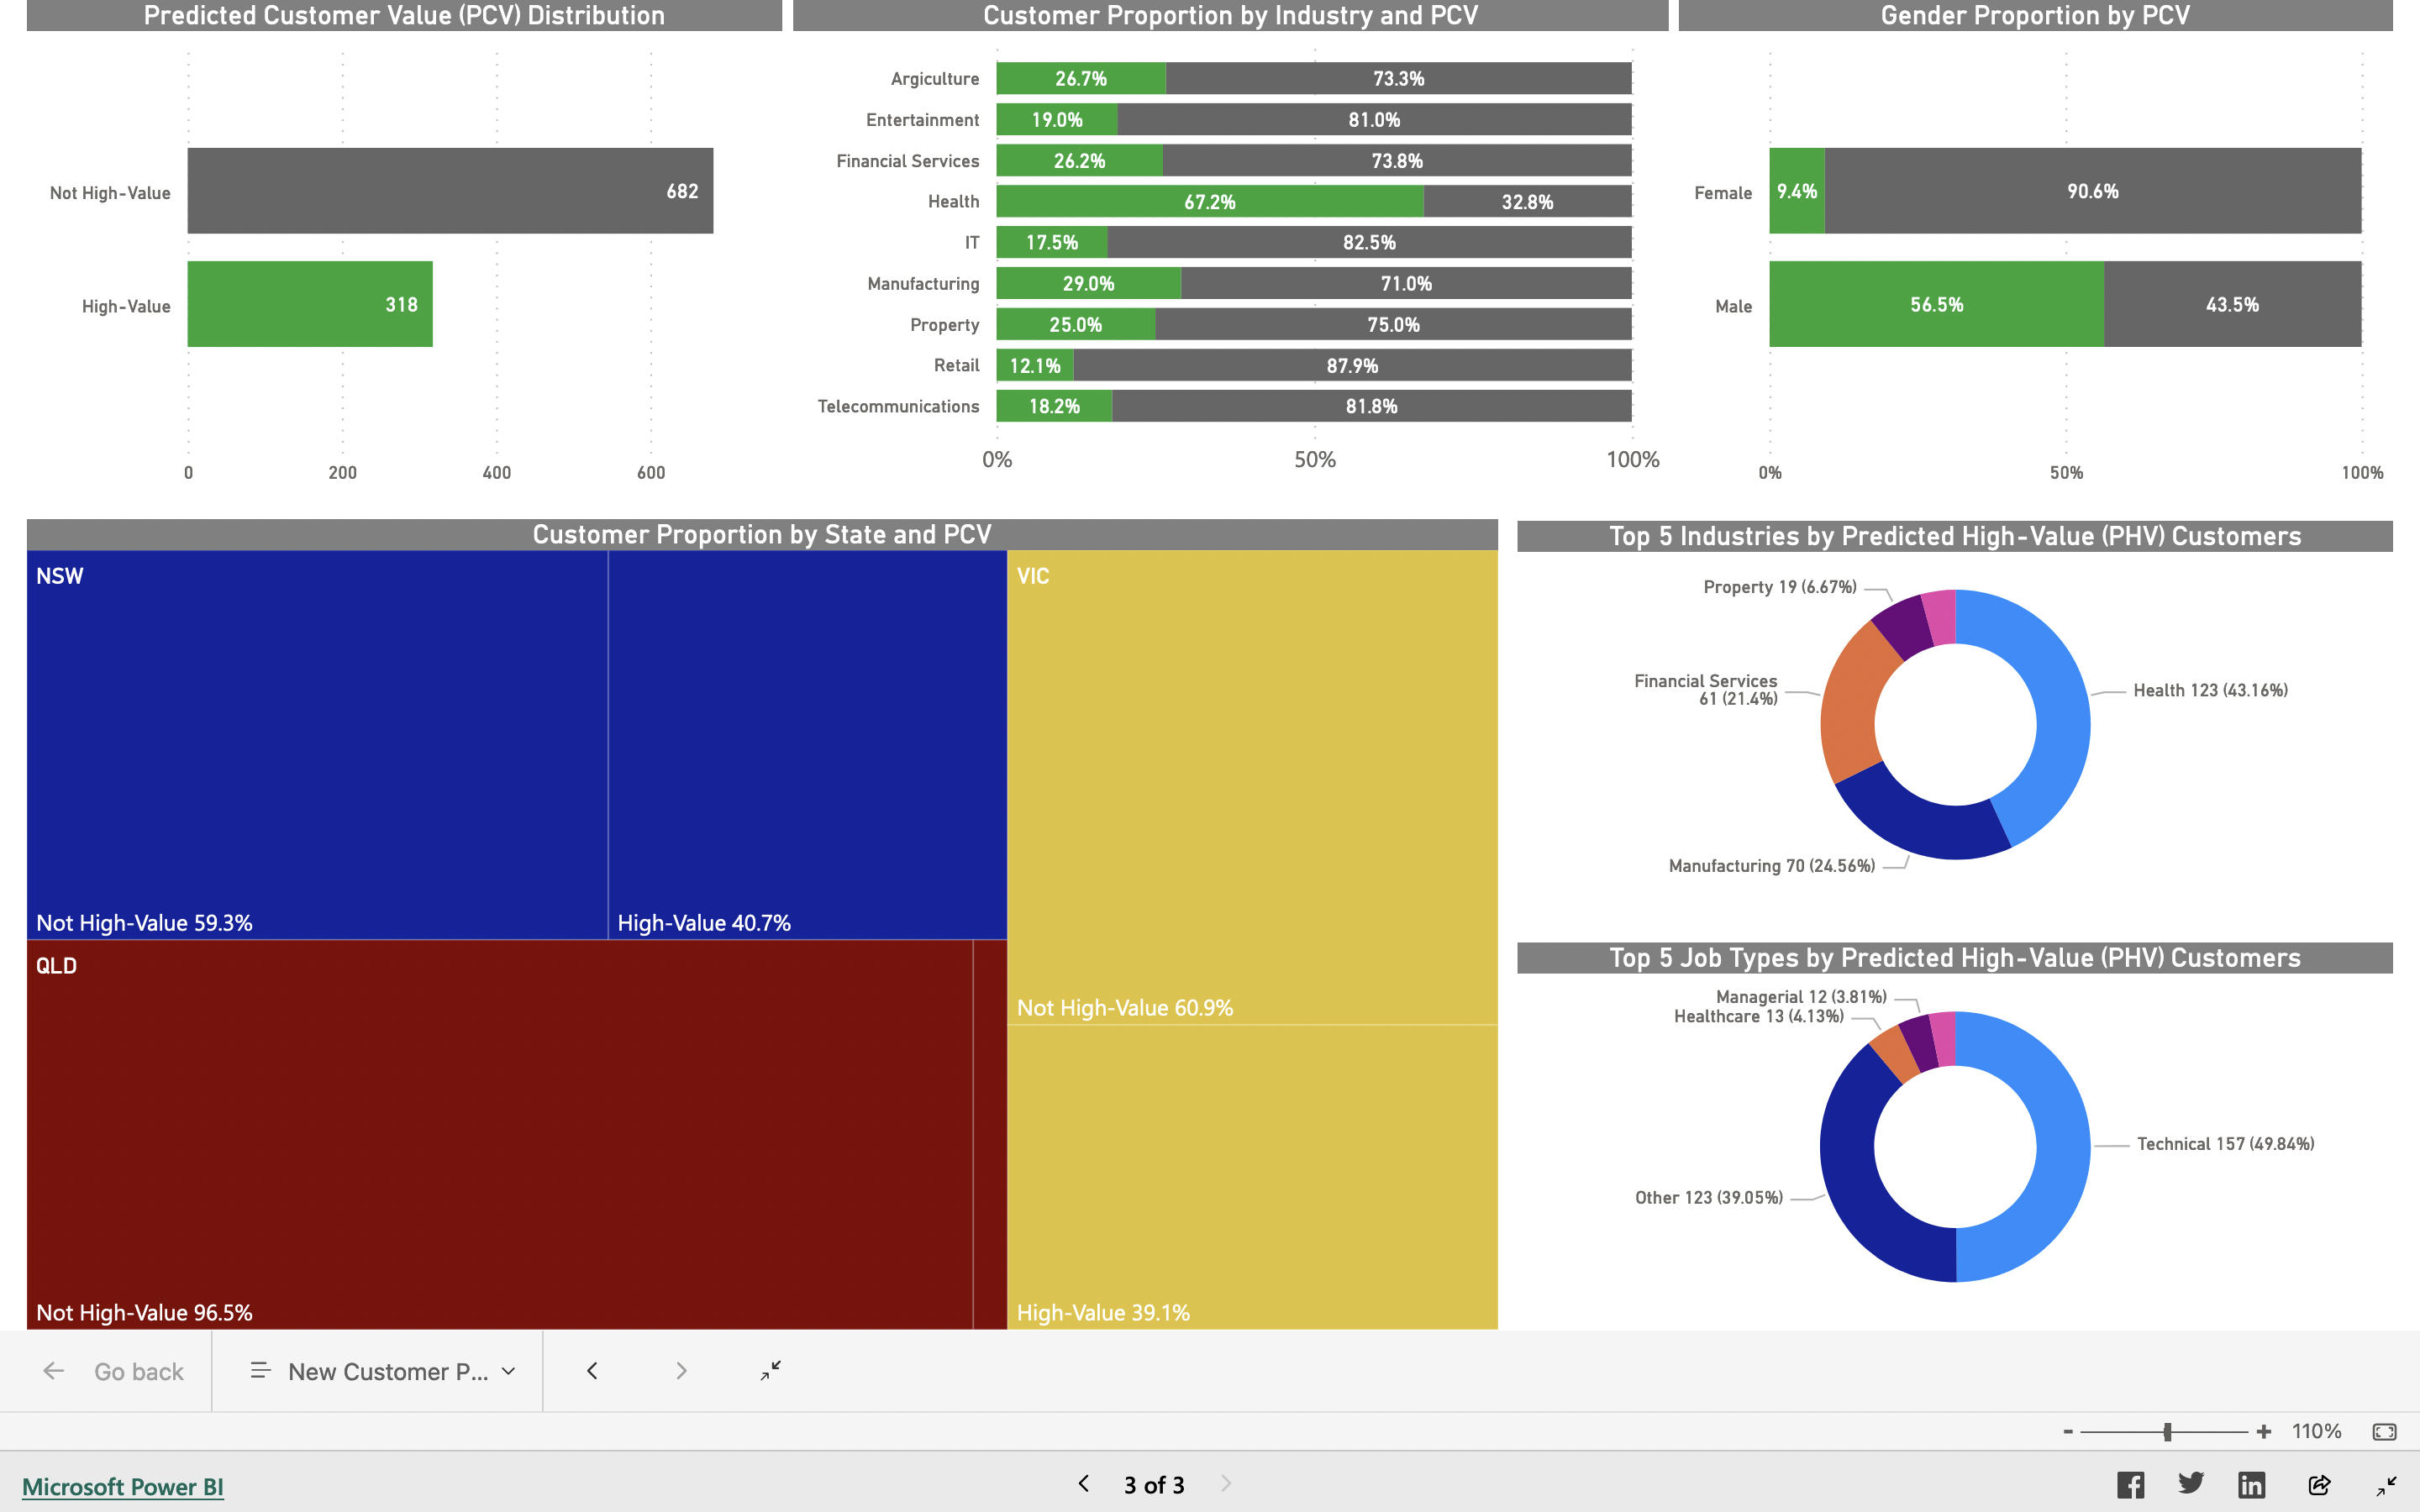

The dashboard page shown, as its layout file describes it:
{"tool":"powerbi","page":{"name":"New Customer Prediction Results","canvas":[1280,720],"ordinal":2},"visuals":[{"type":"clusteredBarChart","title":"Predicted Customer Value (PCV) Distribution","fields":{"Category":["NewCustomerList.customer_value_label"],"Y":["Measures Table.Total New Customers"]},"box":[0,0,408.6,268.7],"z":0},{"type":"barChart","title":"Gender Proportion by PCV","fields":{"Category":["NewCustomerList.gender"],"Series":["NewCustomerList.customer_value_label"],"Y":["Measures Table.New Customers by CV"]},"box":[893.6,0,386.4,268.7],"z":1000},{"type":"treemap","title":"Customer Proportion by State and PCV","fields":{"Details":["NewCustomerList.customer_value_label"],"Values":["Measures Table.New Customers by CV"],"Group":["NewCustomerList.state"]},"box":[0,281.2,795.9,438.8],"z":2000},{"type":"barChart","title":"Customer Proportion by Industry and PCV","fields":{"Category":["NewCustomerList.job_industry_category"],"Series":["NewCustomerList.customer_value_label"],"Y":["Measures Table.New Customers by CV"]},"box":[414.6,0,473.8,268.7],"z":3000},{"type":"donutChart","title":"Top 5 Industries by Predicted High-Value (PHV) Customers","fields":{"Y":["Measures Table.Total New Customers"],"Category":["NewCustomerList.job_industry_category"]},"box":[806,281.5,474,209.1],"z":4000},{"type":"donutChart","title":"Top 5 Job Types by Predicted High-Value (PHV) Customers","fields":{"Y":["Measures Table.Total New Customers"],"Category":["NewCustomerList.job_type"]},"box":[806.1,510.4,473.8,209.6],"z":5000}]}

Visuals, with their boxes on the page's 1280x720 design canvas (x1, y1, x2, y2). These are canvas units, not pixel positions in the 2420x1512 screenshot, which may show the page scaled, cropped or inside an application window:
"Predicted Customer Value (PCV) Distribution" clusteredBarChart: [left=0, top=0, right=409, bottom=269]
"Gender Proportion by PCV" barChart: [left=894, top=0, right=1280, bottom=269]
"Customer Proportion by State and PCV" treemap: [left=0, top=281, right=796, bottom=720]
"Customer Proportion by Industry and PCV" barChart: [left=415, top=0, right=888, bottom=269]
"Top 5 Industries by Predicted High-Value (PHV) Customers" donutChart: [left=806, top=282, right=1280, bottom=491]
"Top 5 Job Types by Predicted High-Value (PHV) Customers" donutChart: [left=806, top=510, right=1280, bottom=720]
